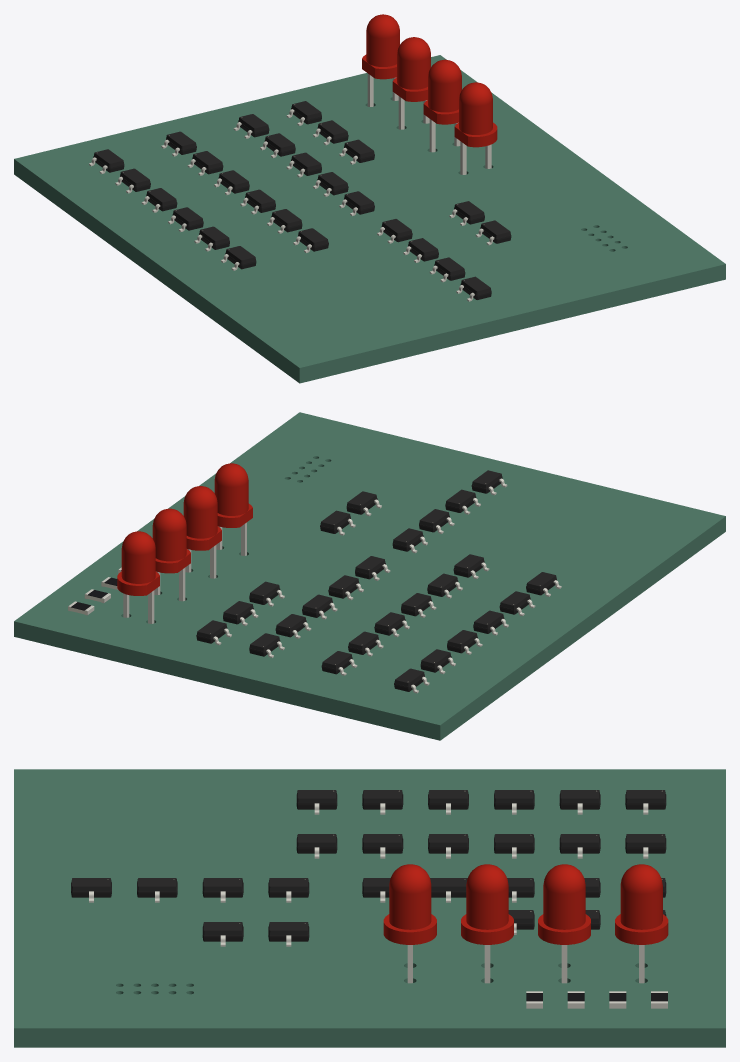
File: led_panel_4.glb
3 views of the same model, one above another, from view 1: azimuth 30°, elevation 25°; view 2: azimuth 150°, elevation 25°; view 3: azimuth 270°, elevation 25° (orthographic). The views are drawn at different scales.
Visible parts, largest first — view 1: =>[0:1:1:5], D104, D102, D103, D101; view 2: =>[0:1:1:5], D101, D103, D102, D104, Q501, Q603, Q306, Q402, Q405, Q204, Q208 (+19 smaller); view 3: =>[0:1:1:5], D102, D103, D104, D101, Q301, Q306, Q402, Q602, Q501, Q406, Q302 (+15 smaller).
Part boxes in pixels (x1,y1,x2,y2): =>[0:1:1:5]: (14,55,725,383); D104: (454,82,497,174); D102: (392,37,430,129); D103: (423,59,461,152); D101: (362,14,399,106); =>[0:1:1:5]: (14,412,725,740); D101: (117,531,159,623); D103: (183,486,221,578); D102: (152,508,190,601); D104: (214,463,252,555); Q501: (320,510,355,535); Q603: (445,489,480,514); Q306: (453,554,489,579); Q402: (420,649,455,674); Q405: (499,591,535,616); Q204: (328,575,363,600); Q208: (249,581,284,606); =>[0:1:1:5]: (14,769,725,1047); D102: (538,864,590,983); D103: (461,864,513,983); D104: (383,864,436,983); D101: (615,864,668,983); Q301: (625,834,666,858); Q306: (296,834,337,858); Q402: (559,790,600,814); Q602: (202,878,243,902); Q501: (268,922,309,946); Q406: (296,790,337,814); Q302: (559,834,600,858).
Size of the model in its own units: 0.0435 by 0.0108 by 0.0505.
